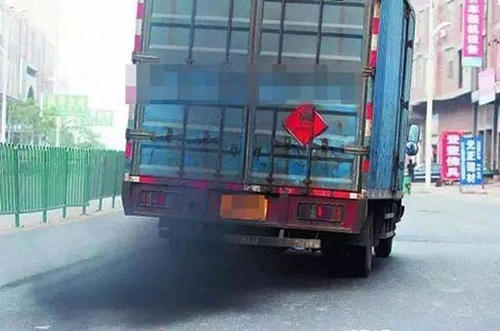smoke: (33, 220, 289, 331)
